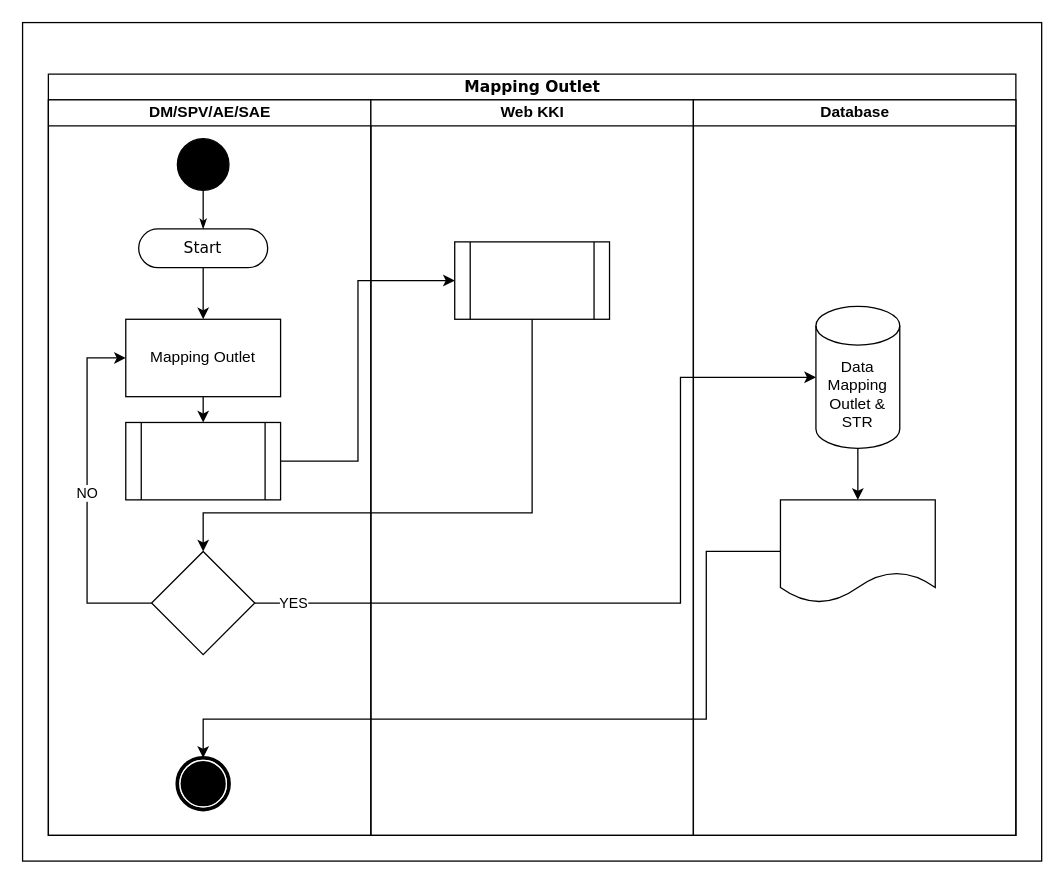
Image size: 1064x884. Some labels were removed from this diagram. The shapes that lost their labels are listed below. From the top down, each one's centre as x and y in pixels, then its label:
(x=531, y=280): Website KKI
(x=202, y=460): Input Data Dokter & STR
(x=857, y=551): Data Outlet & STR
(x=202, y=602): Ada Nomor STR
